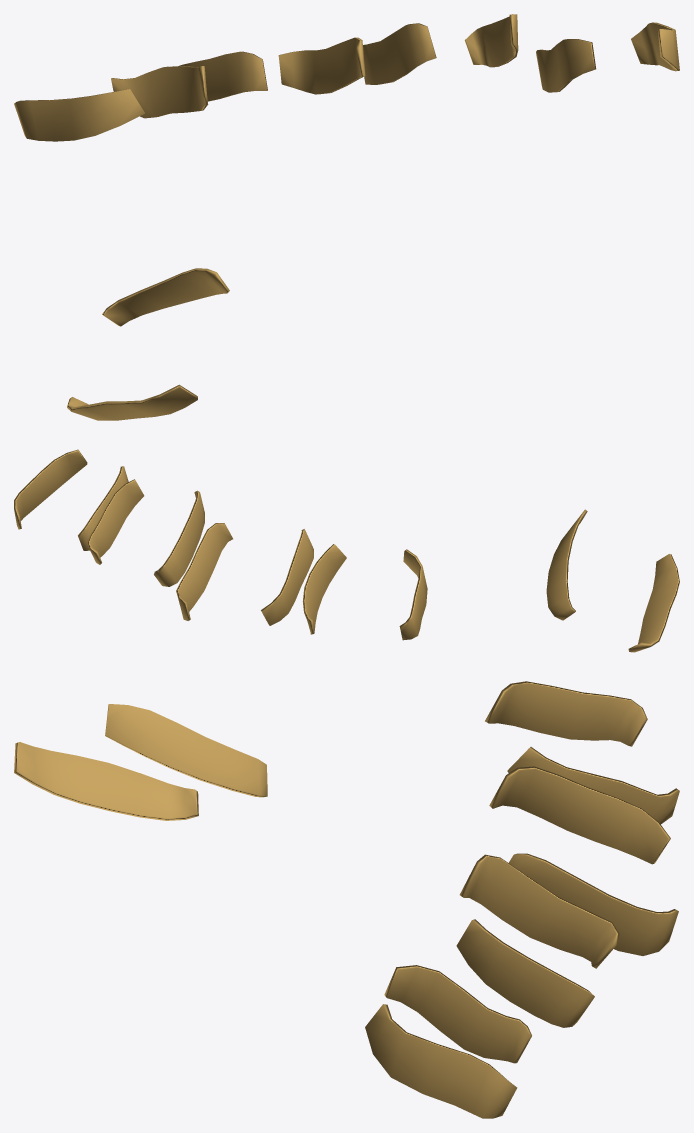
The picture shows the model from 3 angles, top to bottom: view 1: azimuth 30°, elevation 25°; view 2: azimuth 150°, elevation 25°; view 3: azimuth 270°, elevation 25°; orthographic projection. The views are drawn at different scales.
Visible parts, largest first — view 1: 右侧掌指关节侧副韧带; view 2: 右侧掌指关节侧副韧带; view 3: 右侧掌指关节侧副韧带.
Boxes of the visible parts, x1=… form: 右侧掌指关节侧副韧带: x1=14, y1=14, x2=679, y2=420; 右侧掌指关节侧副韧带: x1=14, y1=449, x2=679, y2=652; 右侧掌指关节侧副韧带: x1=14, y1=681, x2=679, y2=1118.
Size of the model in its own units: 0.1376 by 0.0351 by 0.0907.
